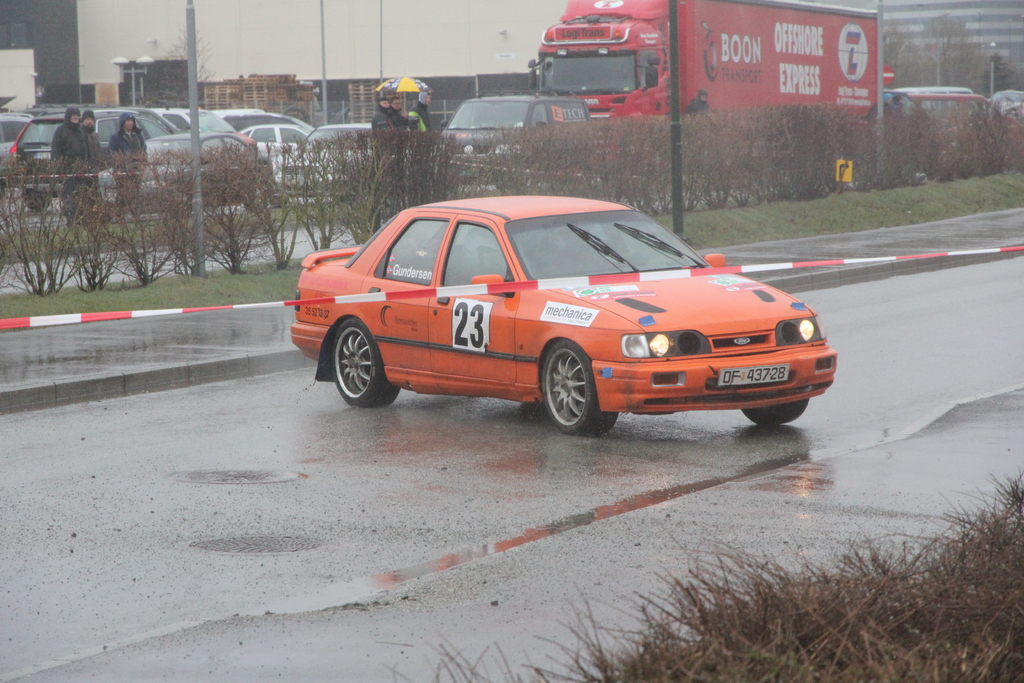cars: (288, 194, 838, 437), (0, 95, 377, 212), (881, 83, 1023, 168)
